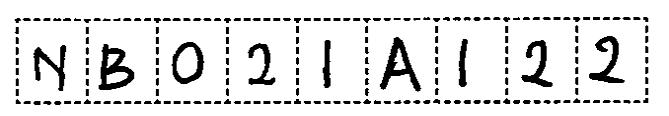0: (167, 36, 208, 87)
1: (310, 34, 347, 91), (444, 34, 478, 90)
2: (584, 32, 632, 91), (239, 36, 283, 93), (515, 36, 558, 93)
A: (375, 31, 428, 97)
B: (92, 39, 140, 96)
N: (26, 40, 71, 98)
